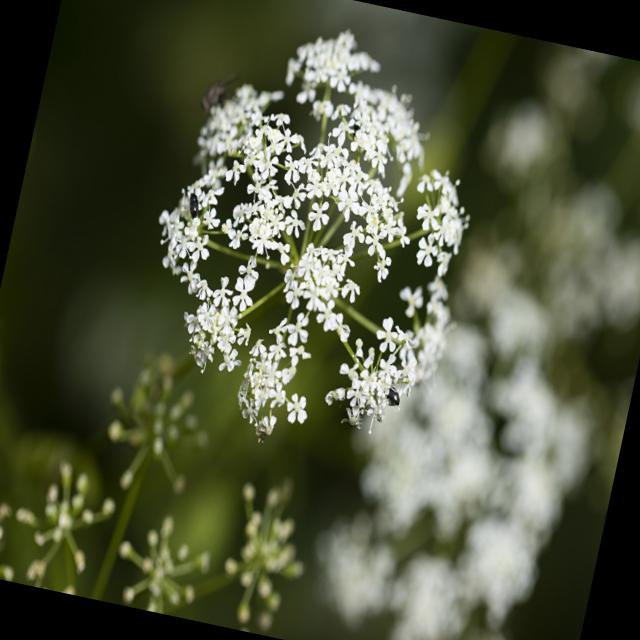Poisonous-Hemlock: (99, 0, 522, 488)
